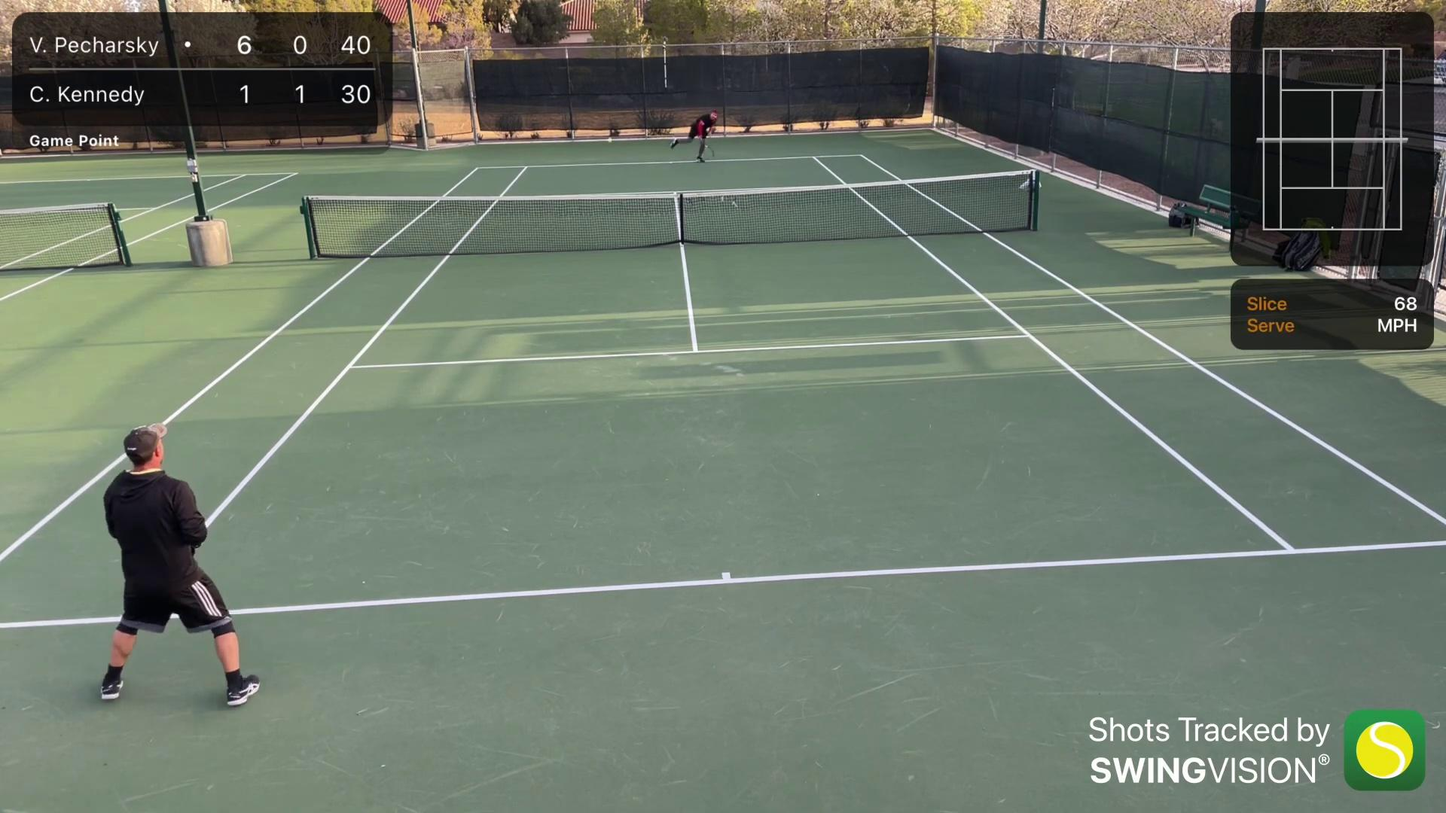ball: (606, 139, 613, 144)
